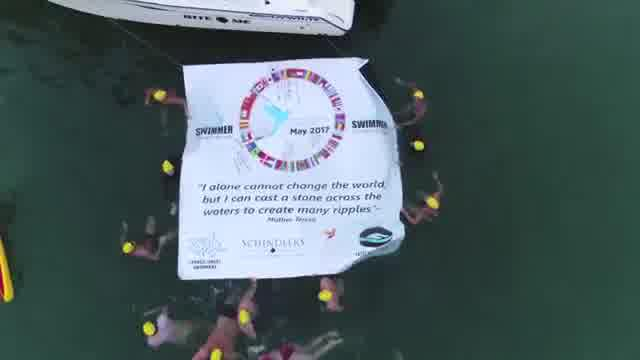human: (190, 306, 240, 359), (136, 308, 192, 352), (120, 223, 174, 267), (402, 182, 450, 229), (385, 76, 426, 128), (252, 338, 344, 360), (144, 86, 193, 121), (233, 280, 261, 336), (316, 274, 346, 320)
